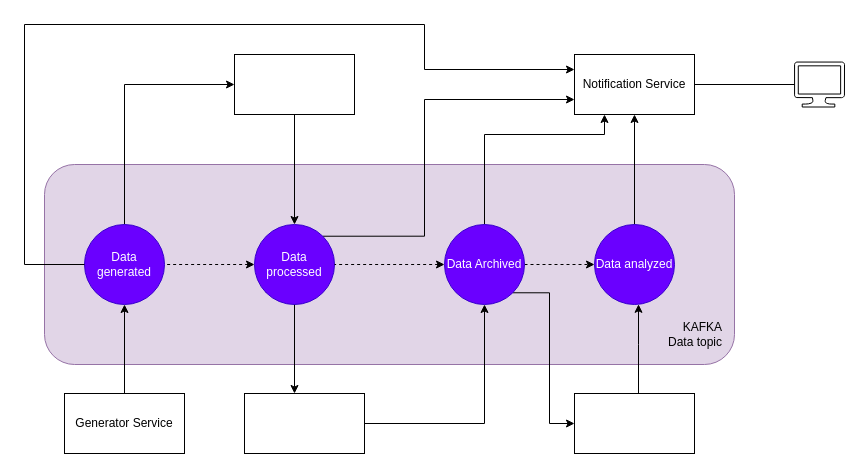
Some shapes in this 862 by 471 pixel diagram are drawn without their labels. Each missing label, with the centre of its shape:
Analyzer Service: (634,423)
Archive Service: (304,423)
Collector Service: (294,84)
